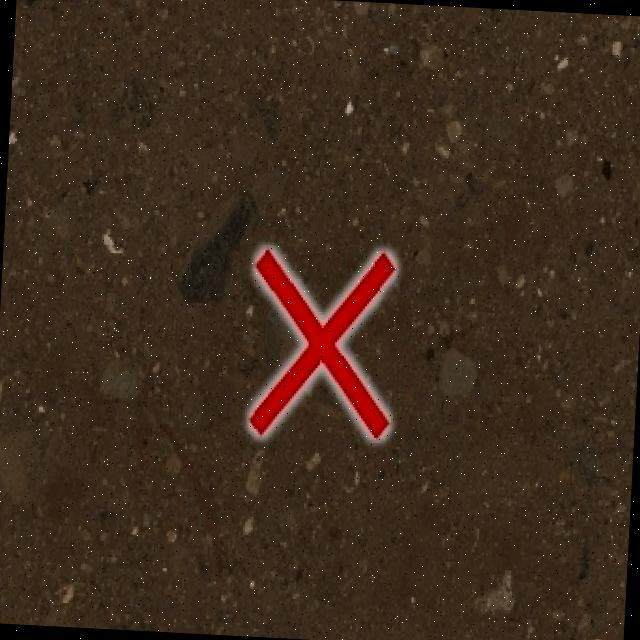x_marker: (247, 246, 397, 440)
